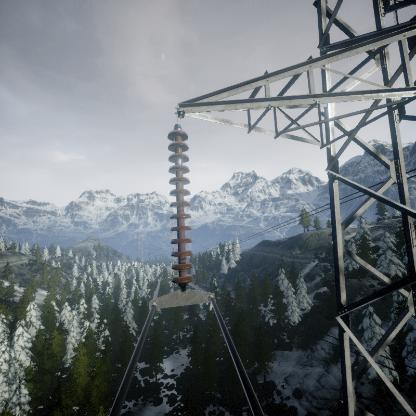insulator: (164, 124, 194, 291)
